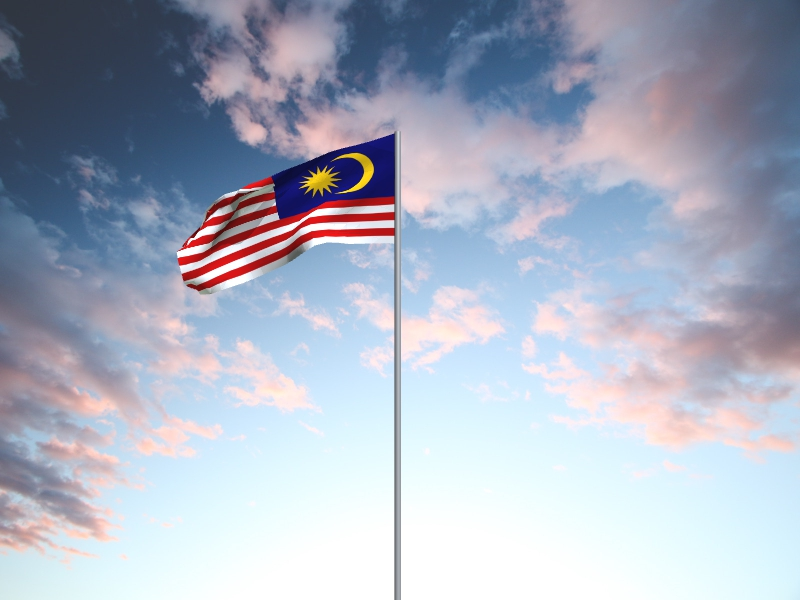my: (177, 134, 395, 296)
